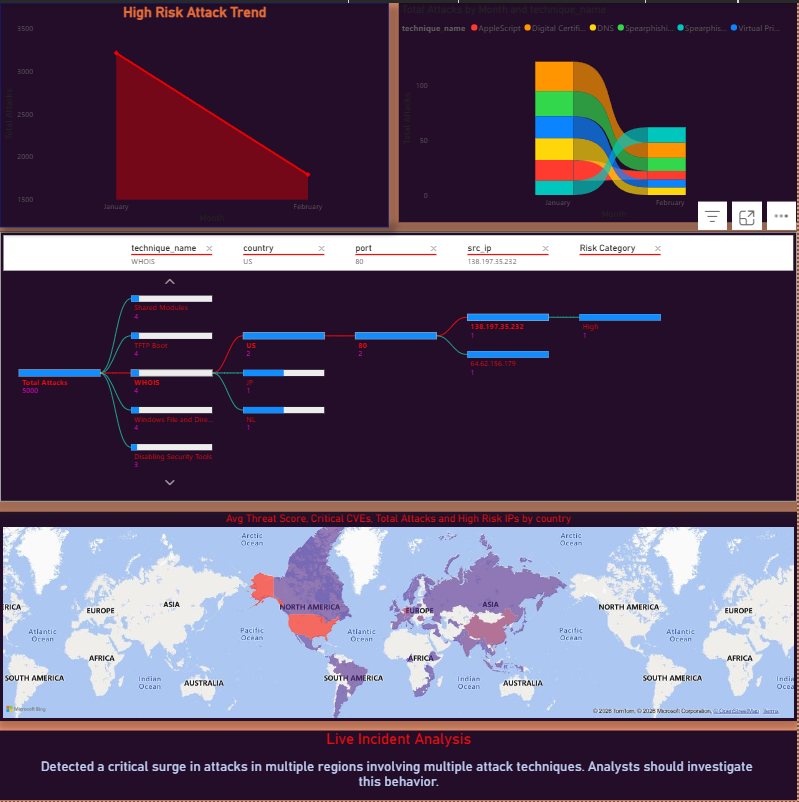

What the dashboard file says about the page in this screenshot:
{"tool":"powerbi","page":{"name":"Strategic, Investigative & Anomaly Insights for SOC Leadership","canvas":[1280,1282],"ordinal":2},"visuals":[{"type":"ribbonChart","fields":{"Category":["fact_attacks.timestamp.Variation.Date Hierarchy.Year","fact_attacks.timestamp.Variation.Date Hierarchy.Quarter","fact_attacks.timestamp.Variation.Date Hierarchy.Month","fact_attacks.timestamp.Variation.Date Hierarchy.Day"],"Series":["dim_attack.technique_name"],"Y":["fact_attacks.Total Attacks"]},"box":[640,0,640,352],"z":0},{"type":"filledMap","fields":{"Category":["dim_ip.country"]},"box":[0,816,1280,336],"z":1000},{"type":"decompositionTreeVisual","fields":{"Analyze":["fact_attacks.Total Attacks"],"ExplainBy":["dim_attack.technique_name","dim_ip.country","fact_attacks.port","fact_attacks.src_ip","dim_attack.Risk Category"]},"box":[0,368,1280,432],"z":2000},{"type":"stackedAreaChart","title":"High Risk Attack Trend","fields":{"Category":["fact_attacks.timestamp.Variation.Date Hierarchy.Month"],"Y":["fact_attacks.Total Attacks"]},"box":[0,0,624,360],"z":3000},{"type":"card","title":"Live Incident Analysis","fields":{"Values":["fact_attacks.Incident Summary"]},"box":[0,1168,1280,112],"z":4000}]}

Visuals, with their boxes in screenshot pixels (x1, y1, x2, y2), scaled from the page's 1280x1282 canvas onto the 799x802 screenshot:
ribbonChart - fact_attacks.timestamp.Variation.Date Hierarchy.Year x fact_attacks.timestamp.Variation.Date Hierarchy.Quarter: <box>400,0,798,220</box>
filledMap - dim_ip.country: <box>0,510,798,721</box>
decompositionTreeVisual - fact_attacks.Total Attacks x dim_attack.technique_name: <box>0,230,798,500</box>
"High Risk Attack Trend" stackedAreaChart: <box>0,0,390,225</box>
"Live Incident Analysis" card: <box>0,731,798,801</box>
